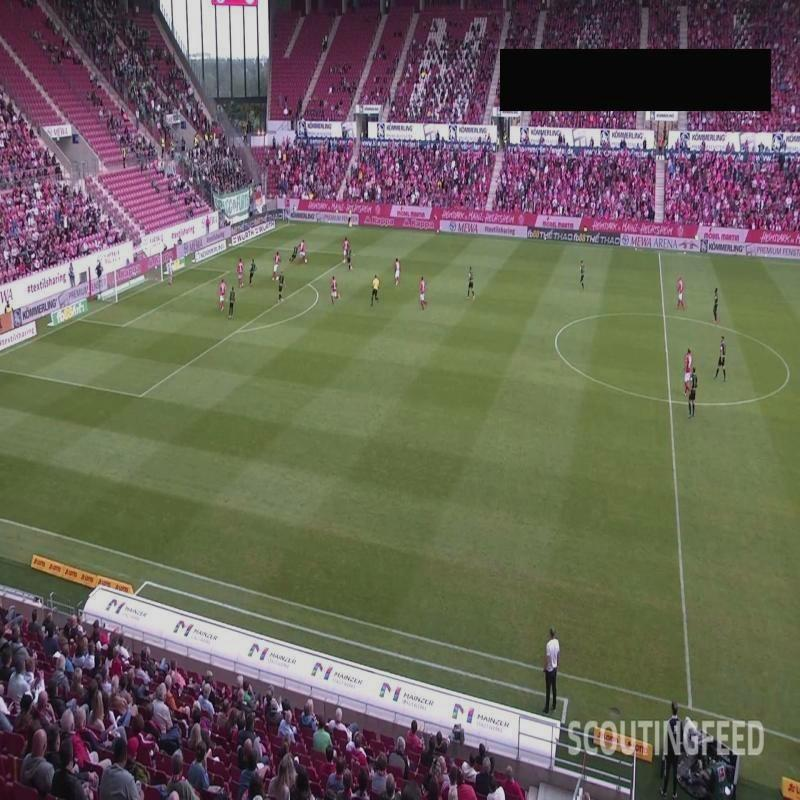1: (281, 216, 295, 230)
10: (302, 276, 316, 290)
11: (232, 322, 245, 336)
12: (134, 389, 148, 403)
13: (653, 246, 667, 260)
14: (657, 310, 671, 324)
15: (662, 394, 676, 408)
16: (683, 698, 700, 718)
2: (234, 239, 247, 253)
3: (185, 260, 199, 274)
4: (72, 312, 86, 326)
7: (222, 264, 236, 278)
8: (118, 318, 132, 332)
9: (348, 247, 362, 261)
c: (548, 332, 564, 347), (781, 366, 795, 380)
